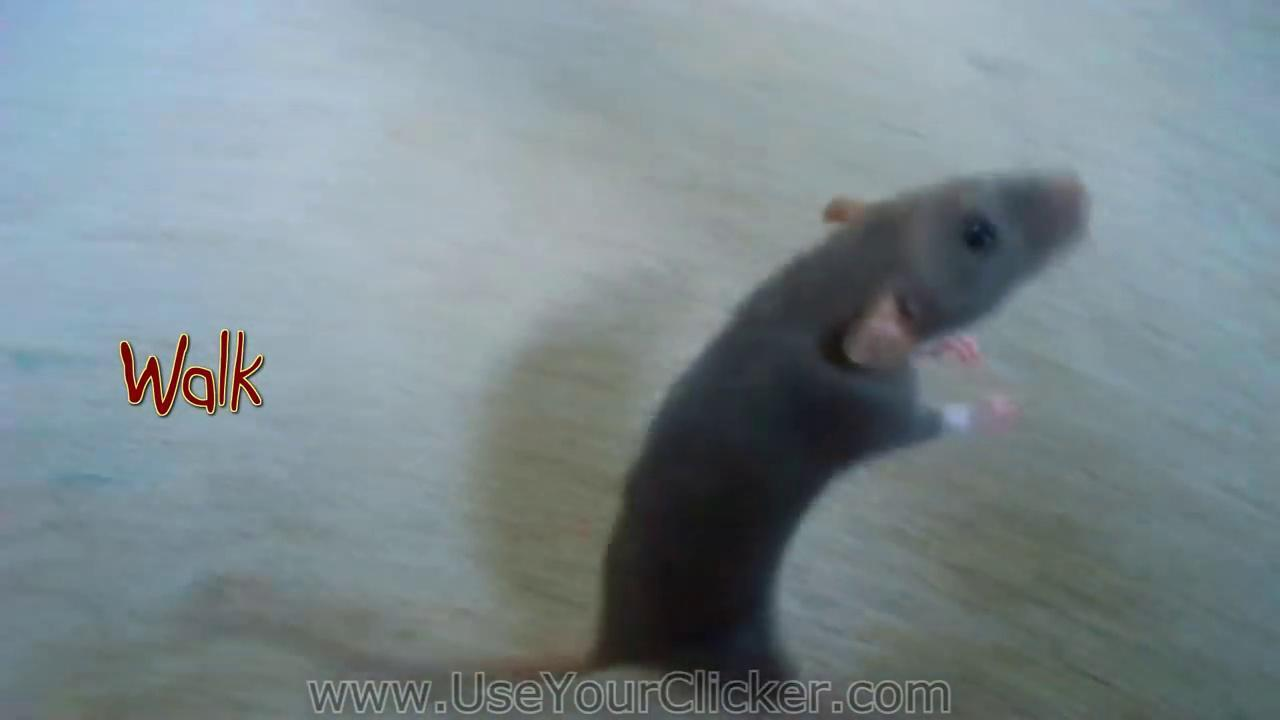rat: (442, 169, 1087, 720)
